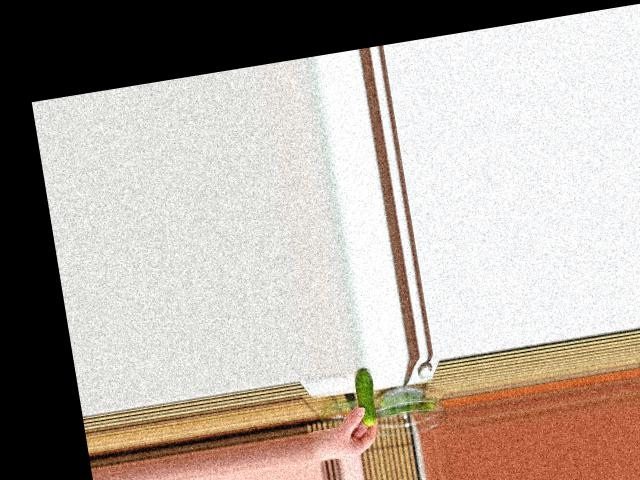cucumber: (352, 367, 379, 427)
